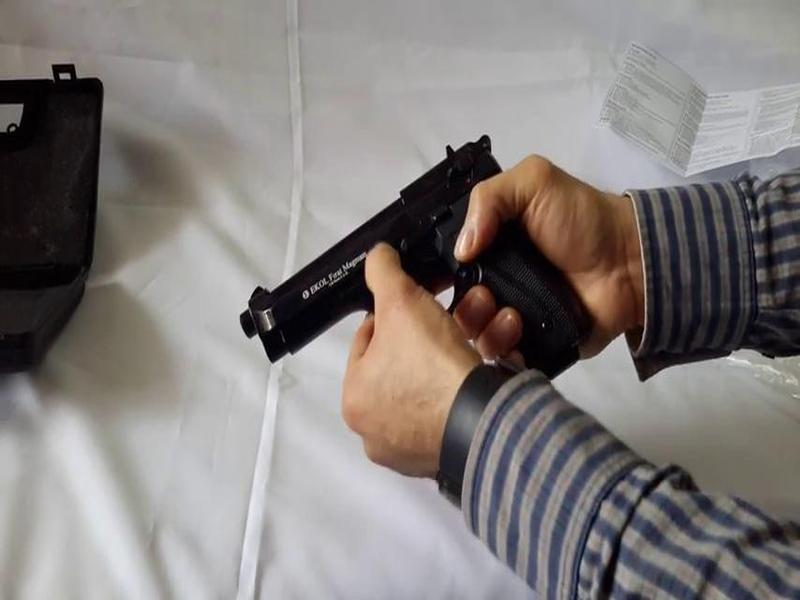Pistola: (212, 130, 597, 404)
